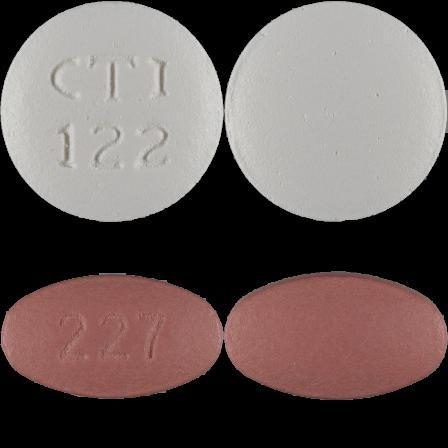66336-187: (0, 0, 224, 224)
